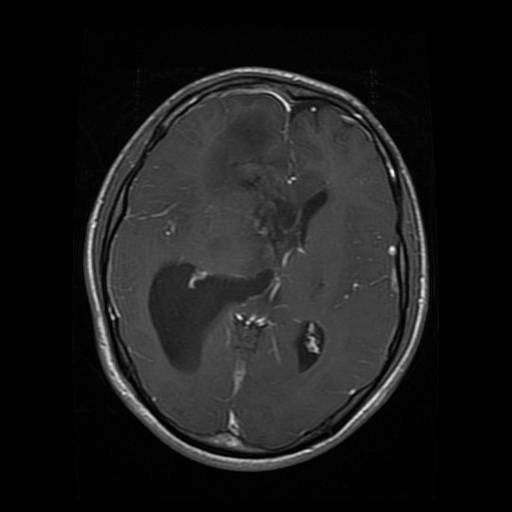Tumour-Glioma: (209, 105, 284, 209)
